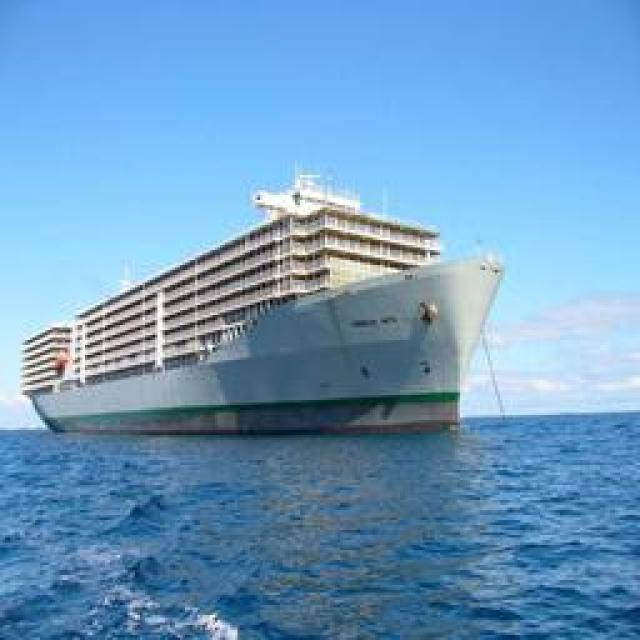ship2: (22, 173, 506, 440)
